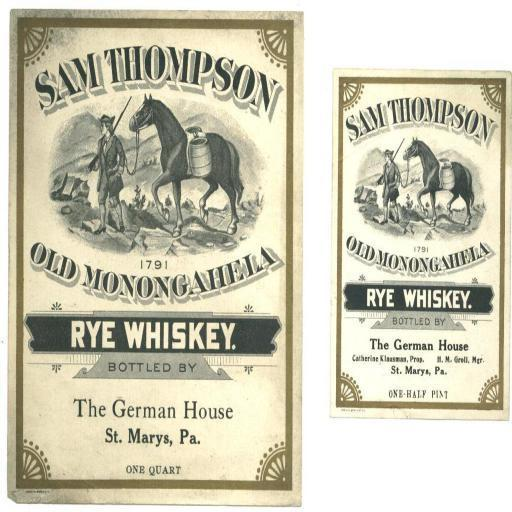horse: (129, 91, 244, 238), (404, 134, 476, 226)
